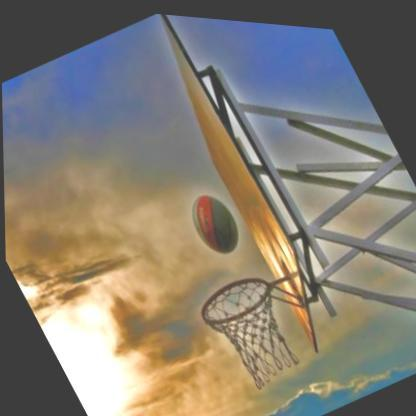basketball: (182, 184, 245, 260)
